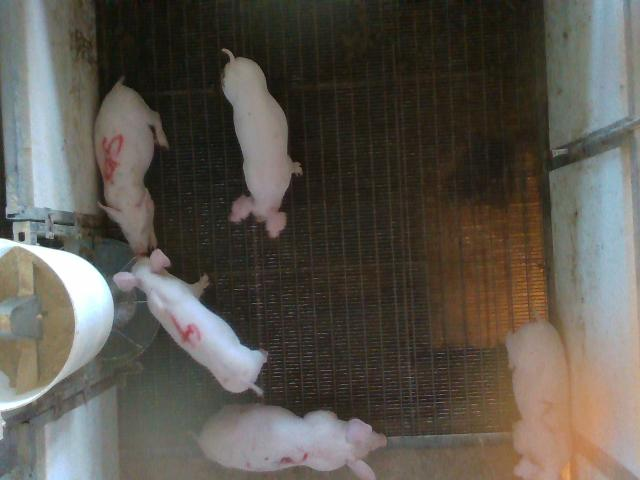pig-2: (506, 319, 571, 479)
pig-3: (198, 405, 385, 479)
pig-4: (114, 249, 266, 394)
pig-5: (95, 78, 169, 254)
